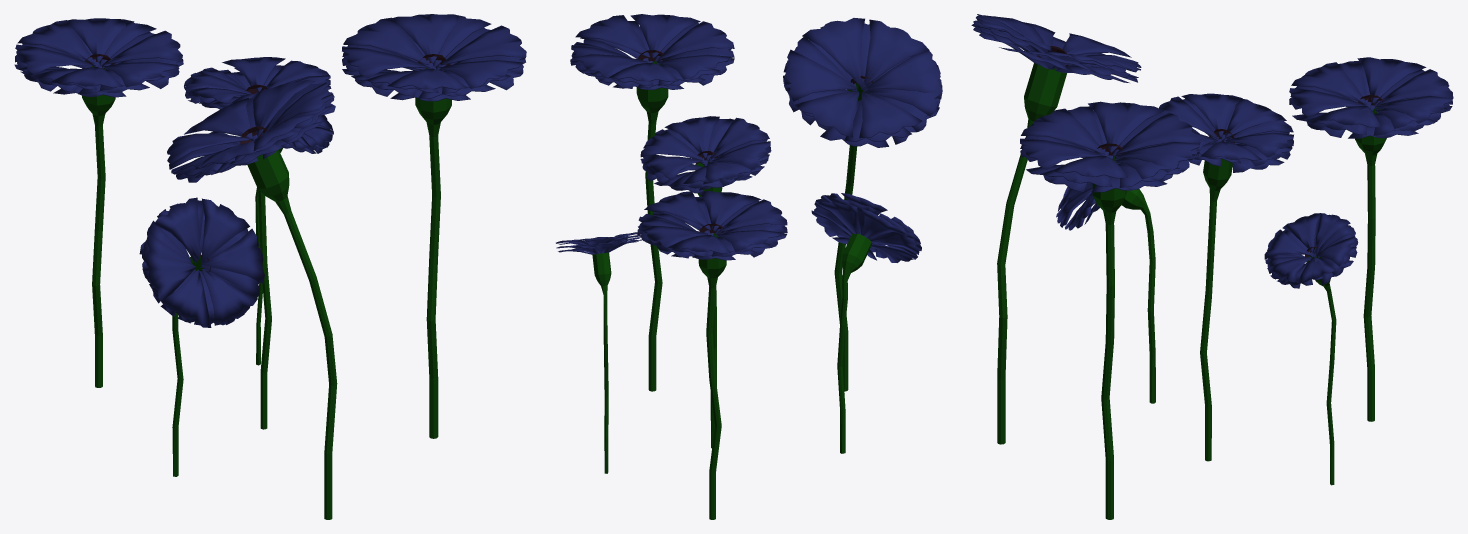
The model's file is SM_Cornflower_001.fbx.
3 views of the same model, side by side, from view 1: azimuth 30°, elevation 25°; view 2: azimuth 150°, elevation 25°; view 3: azimuth 270°, elevation 25° (orthographic). The views are drawn at different scales.
Parts seen in each view (by area): view 1: Circle; view 2: Circle; view 3: Circle.
Boxes of the visible parts, x1,y1,x2,y2 form: Circle: [14, 14, 526, 519]; Circle: [556, 14, 942, 519]; Circle: [971, 14, 1453, 519].
Bounding box in the file's own units: 27.99 × 30 × 31.98.
